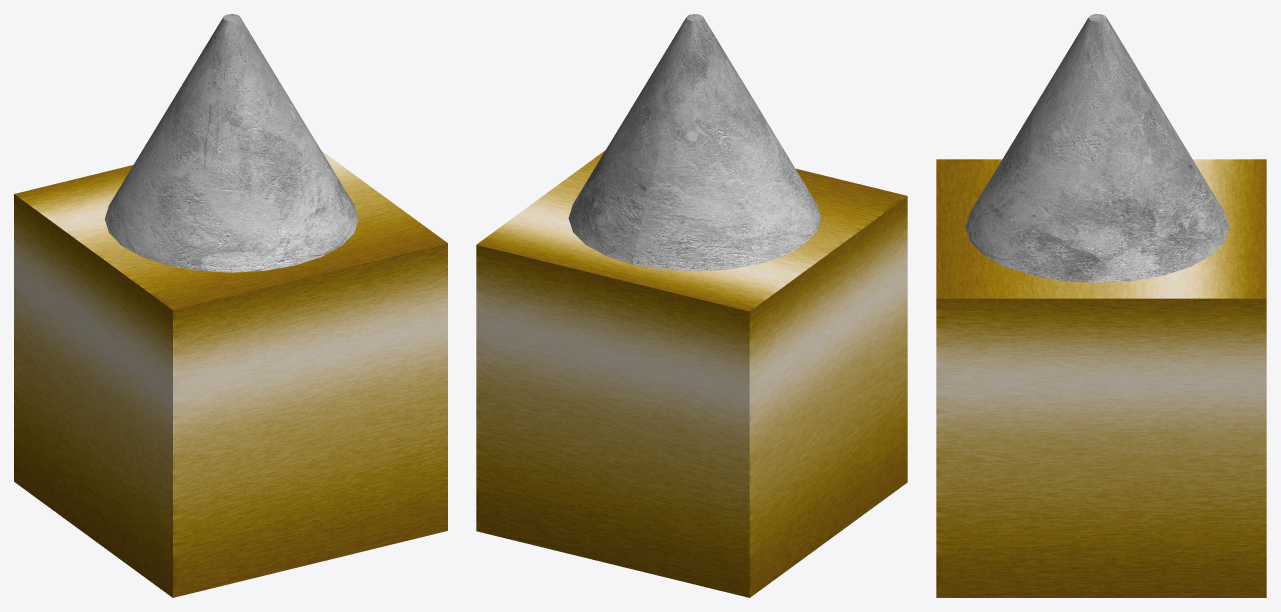
File: MUROLVL3.fbx
3 views of the same model, side by side, from view 1: azimuth 30°, elevation 25°; view 2: azimuth 150°, elevation 25°; view 3: azimuth 270°, elevation 25° (orthographic). The views are drawn at different scales.
Parts seen in each view (by area): view 1: Box001, Cone001; view 2: Box001, Cone001; view 3: Box001, Cone001.
Part boxes in pixels (x1,y1,x2,y2): Box001: [14, 151, 447, 597]; Cone001: [105, 14, 358, 272]; Box001: [476, 150, 907, 597]; Cone001: [568, 14, 821, 271]; Box001: [936, 159, 1266, 597]; Cone001: [965, 14, 1229, 282].
Bounding box in the file's own units: 1 × 1.7 × 1.
2 materials, 2 textured.
